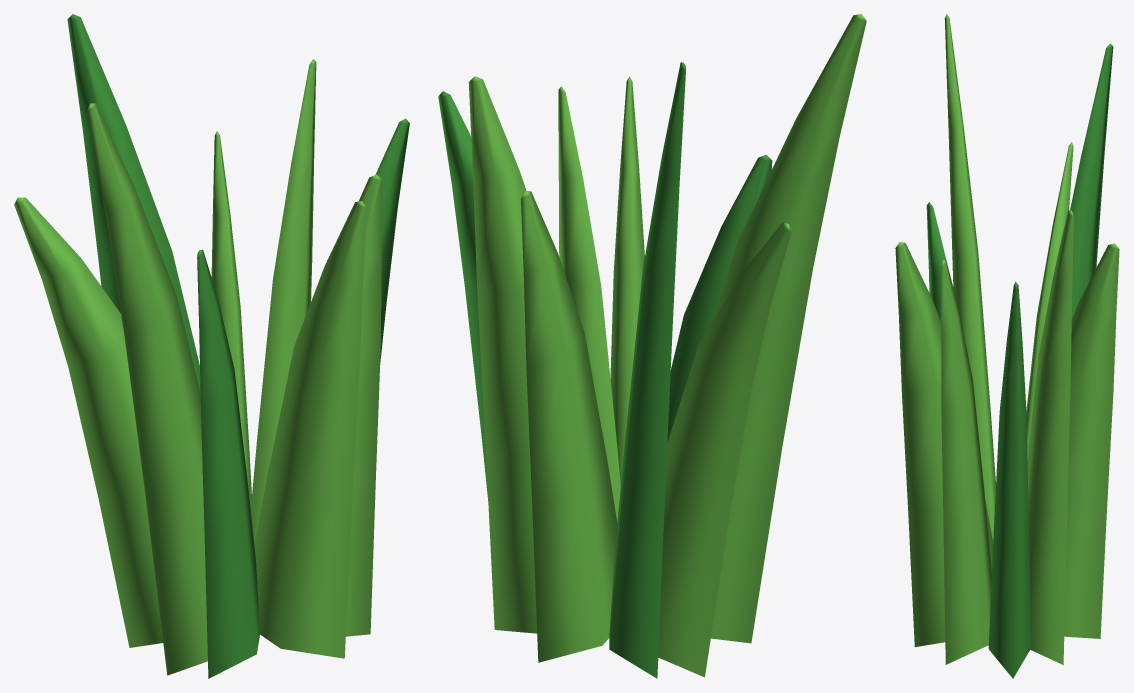
File: grass_tuft.glb
3 renders of one model, left to right at view 1: azimuth 30°, elevation 25°; view 2: azimuth 150°, elevation 25°; view 3: azimuth 270°, elevation 25°, orthographic. The views are drawn at different scales.
Visible parts, largest first — view 1: grass_tuft; view 2: grass_tuft; view 3: grass_tuft.
Boxes of the visible parts, left/top/right/bottom form: grass_tuft: left=14, top=14, right=409, bottom=678; grass_tuft: left=438, top=14, right=866, bottom=678; grass_tuft: left=895, top=14, right=1119, bottom=678.
Size of the model in its own units: 0.2437 by 0.3906 by 0.1467.
